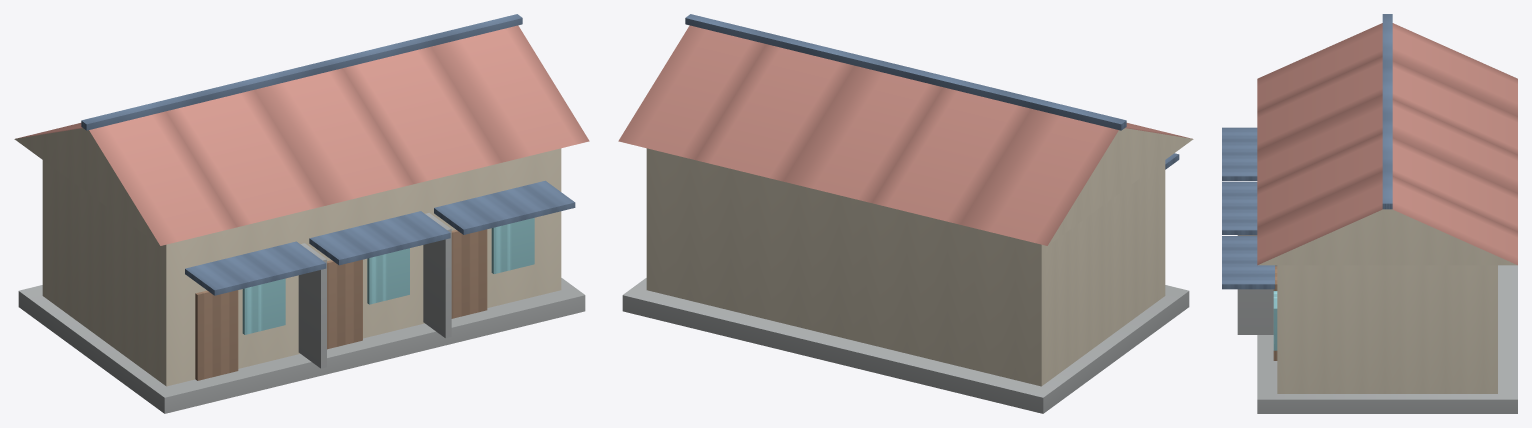
File: contract_house.glb
3 views of the same model, side by side, from view 1: azimuth 30°, elevation 25°; view 2: azimuth 150°, elevation 25°; view 3: azimuth 270°, elevation 25° (orthographic). The views are drawn at different scales.
Visible parts, largest first — view 1: contract_house; view 2: contract_house; view 3: contract_house.
Boxes of the visible parts, x1,y1,x2,y2 form: contract_house: (14,14,589,413); contract_house: (618,14,1193,413); contract_house: (1222,14,1517,413).
Bounding box in the file's own units: 10.16 × 5.34 × 6.7.
Materials: 1 (1 with a texture image).
